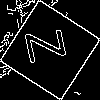Z: (25, 25, 75, 64)
